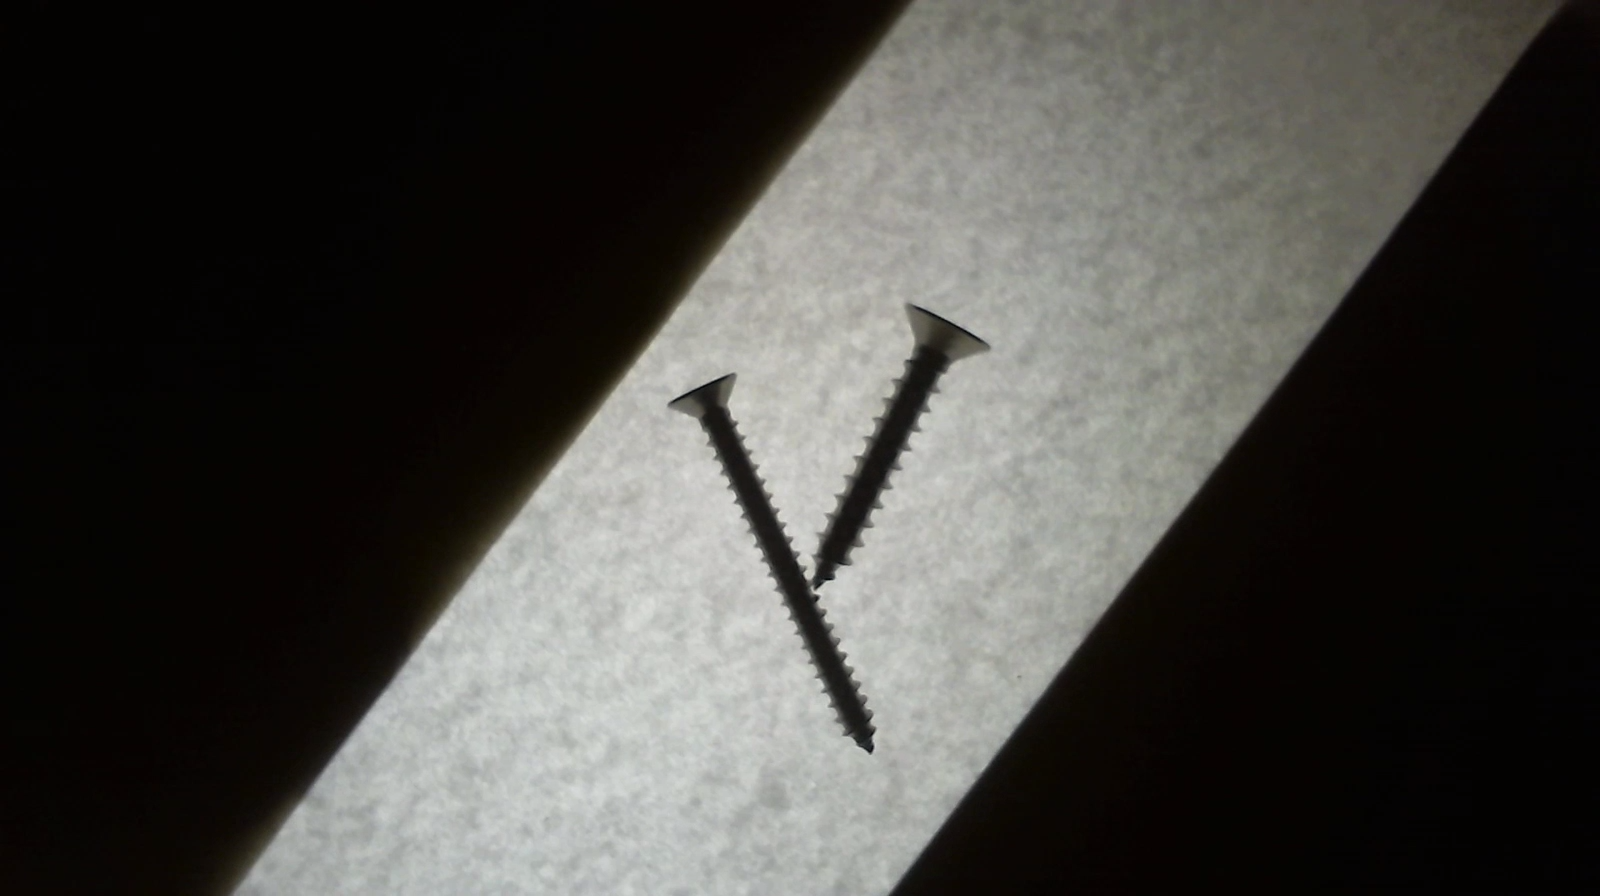S001: (800, 298, 995, 589)
S002: (666, 365, 887, 756)
